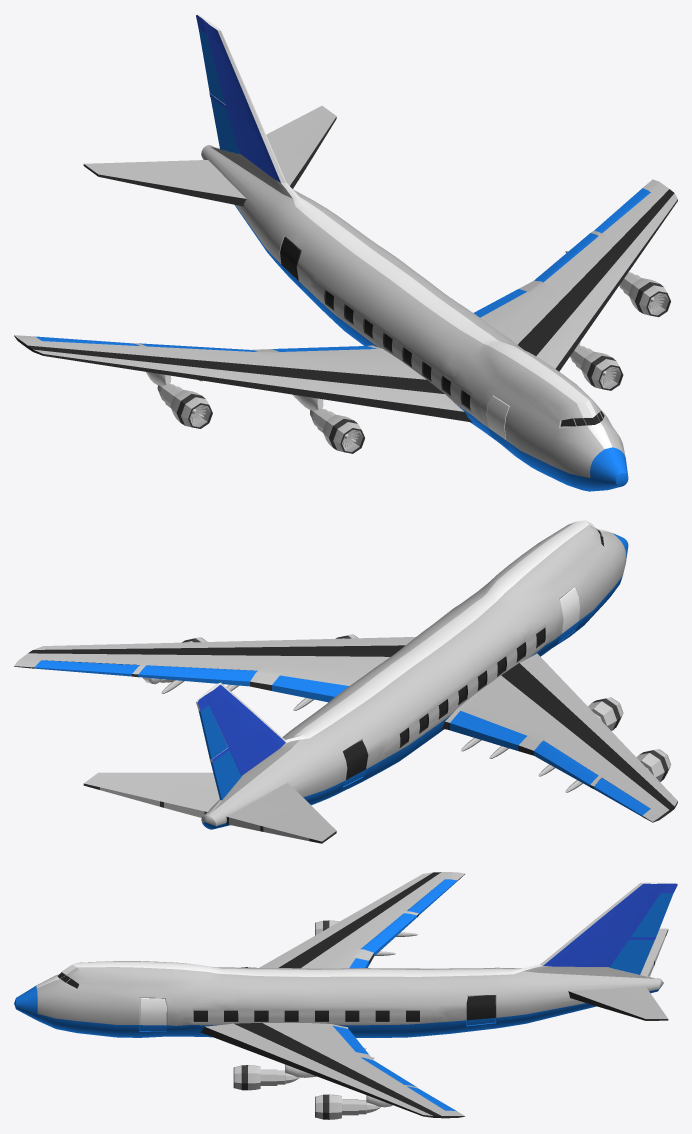
Rendered from airoplane.obj.
The picture shows the model from 3 angles, top to bottom: view 1: azimuth 30°, elevation 25°; view 2: azimuth 150°, elevation 25°; view 3: azimuth 270°, elevation 25°; orthographic projection. The views are drawn at different scales.
Parts seen in each view (by area): view 1: polySurface487, set1 polySurface487; view 2: polySurface487, set1 polySurface487; view 3: set1 polySurface487, polySurface487.
Boxes of the visible parts, x1,y1,x2,y2 form: polySurface487: (14, 29, 677, 453); set1 polySurface487: (196, 14, 628, 491); polySurface487: (14, 634, 677, 843); set1 polySurface487: (196, 520, 628, 829); set1 polySurface487: (14, 882, 677, 1037); polySurface487: (200, 872, 673, 1119).
Size of the model in its own units: 21.99 by 6.65 by 25.32.
